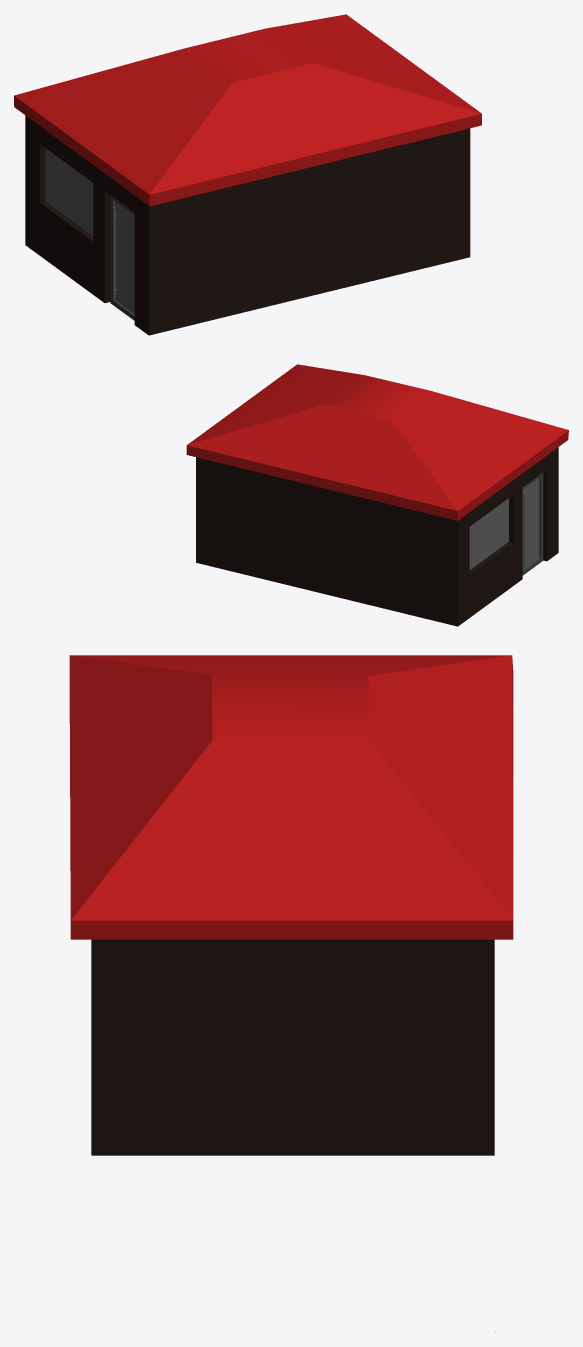
File: tabakladen.DAE
3 views of the same model, one above another, from view 1: azimuth 30°, elevation 25°; view 2: azimuth 150°, elevation 25°; view 3: azimuth 270°, elevation 25° (orthographic). The views are drawn at different scales.
Visible parts, largest first — view 1: house, roof, window2, pCube1, door1; view 2: house, roof, window2, pCube1, door1; view 3: roof, house.
Part boxes in pixels (x1,y1,x2,y2): house: (25, 115, 470, 335); roof: (14, 14, 481, 206); window2: (45, 148, 93, 235); pCube1: (115, 201, 134, 313); door1: (110, 195, 134, 320); house: (196, 447, 558, 626); roof: (186, 364, 568, 520); window2: (469, 498, 508, 569); pCube1: (522, 478, 539, 569); door1: (522, 473, 543, 575); roof: (69, 655, 513, 939); house: (91, 939, 494, 1155).
Size of the model in its own units: 404 by 138 by 173.
